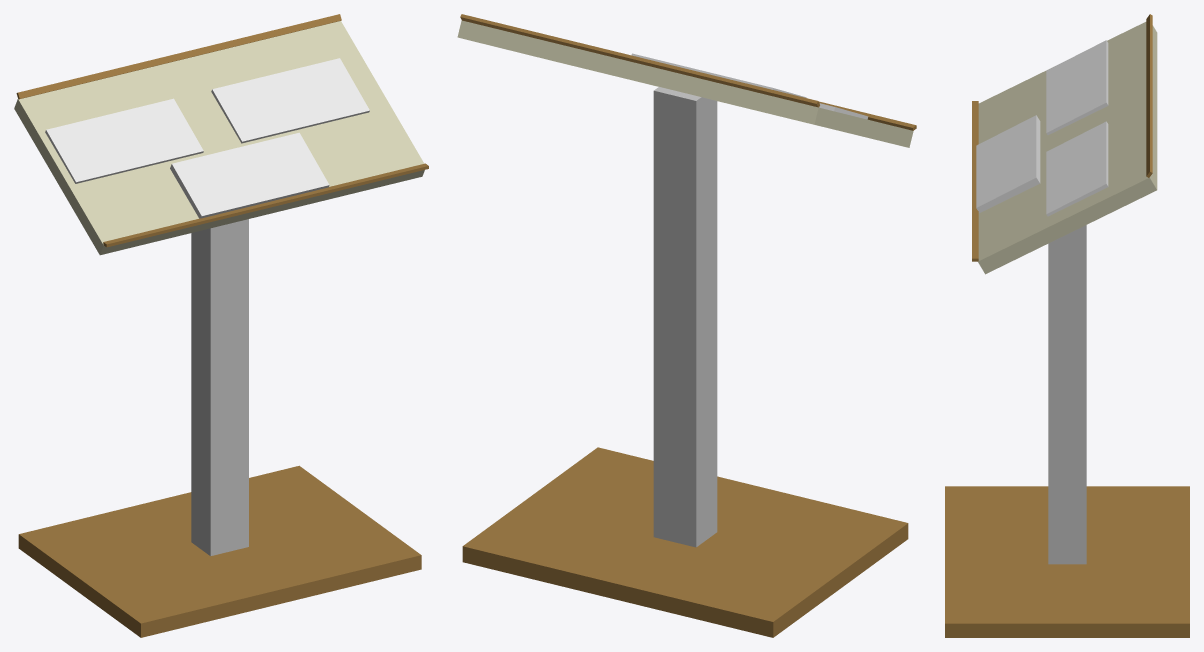
File: Atril 3.fbx
3 renders of one model, left to right at view 1: azimuth 30°, elevation 25°; view 2: azimuth 150°, elevation 25°; view 3: azimuth 270°, elevation 25°, orthographic. The views are drawn at different scales.
Visible parts, largest first — view 1: atril 3; view 2: atril 3; view 3: atril 3.
Part boxes in pixels (box(x1,y1,x2,y2)): atril 3: box(14, 14, 428, 637); atril 3: box(457, 14, 916, 637); atril 3: box(945, 14, 1189, 637).
Size of the model in its own units: 230 by 325 by 151.
